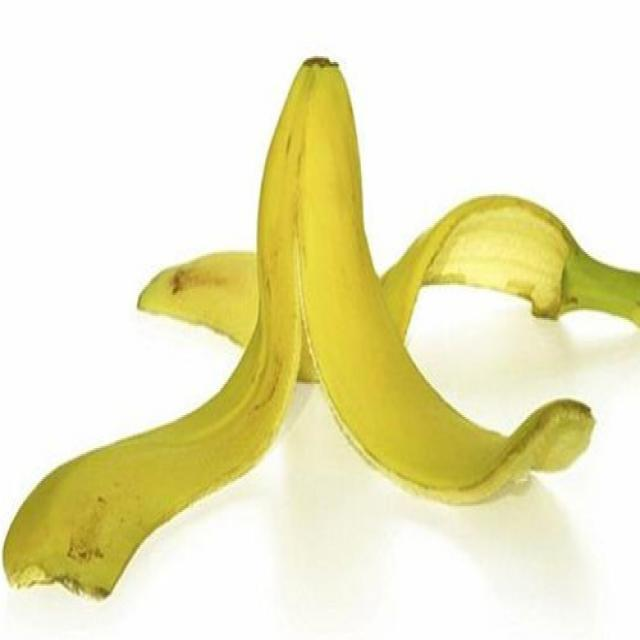banana-peel: (1, 53, 637, 600)
